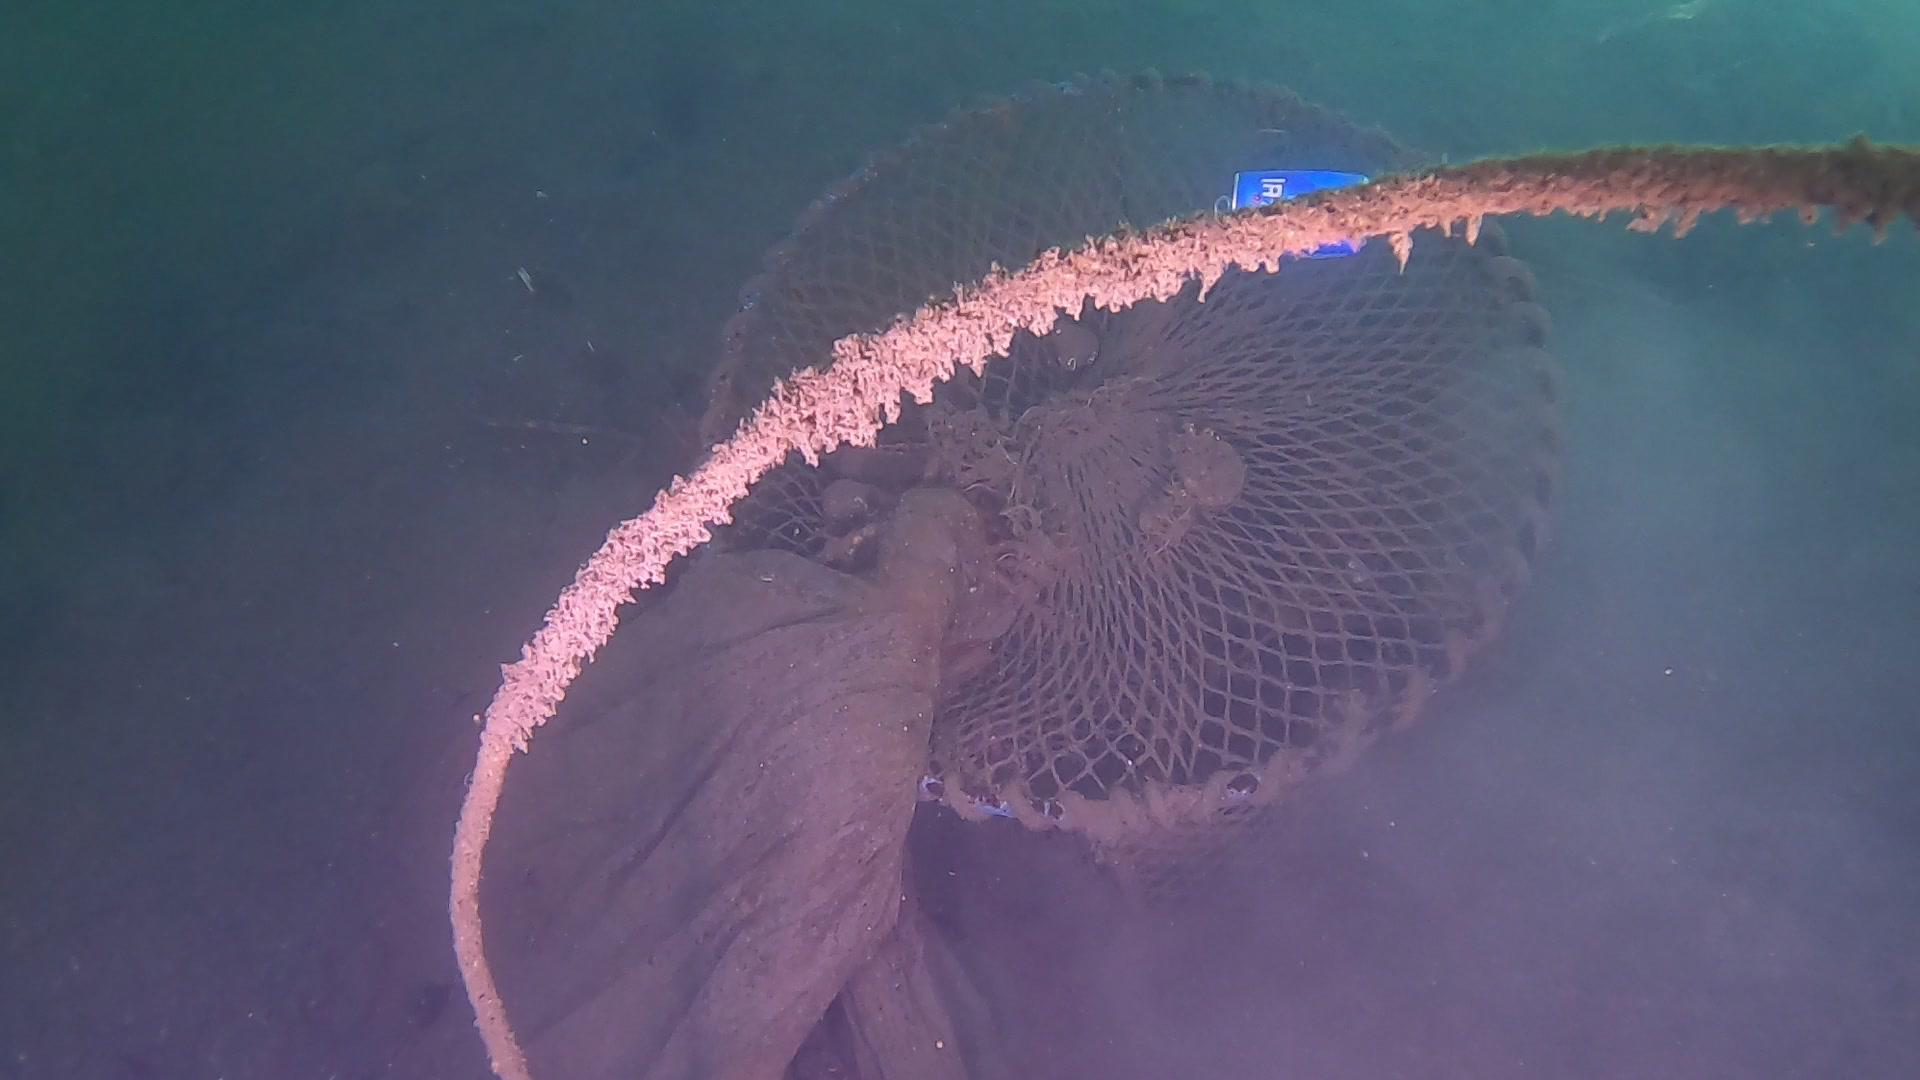circular fish trap: (670, 54, 1577, 902)
rope: (444, 131, 1920, 1080)
